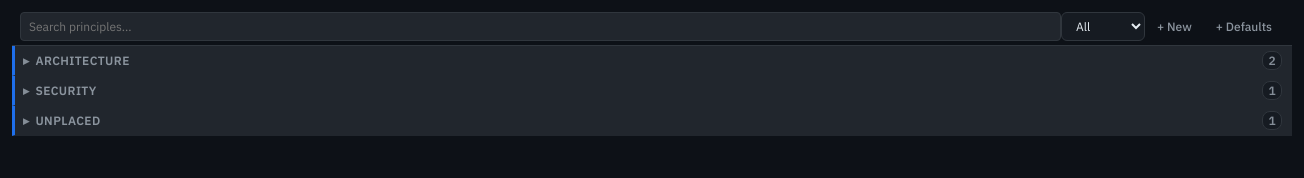
Test: principles tree (PRN-03) › search opens every group that matches and hides the rest
This screenshot has width=1304, height=178.
Check: the button "▸ Architecture 2" is shown, box [12,46,1292,76]
Type "mfa" into the field labelled "Search principles" at (540, 26), box [20,12,1061,41]
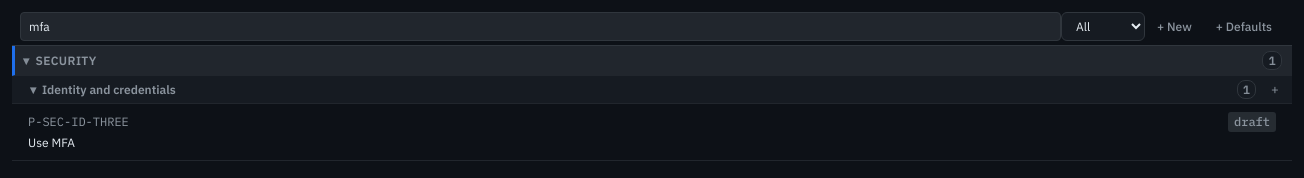
Check: the text "Use MFA" is shown, box [28,135,75,150]
Check: the button "Architecture" is gone
